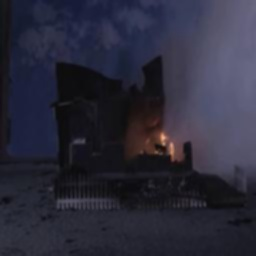fire: (150, 120, 183, 161)
smoke: (162, 0, 256, 123)
